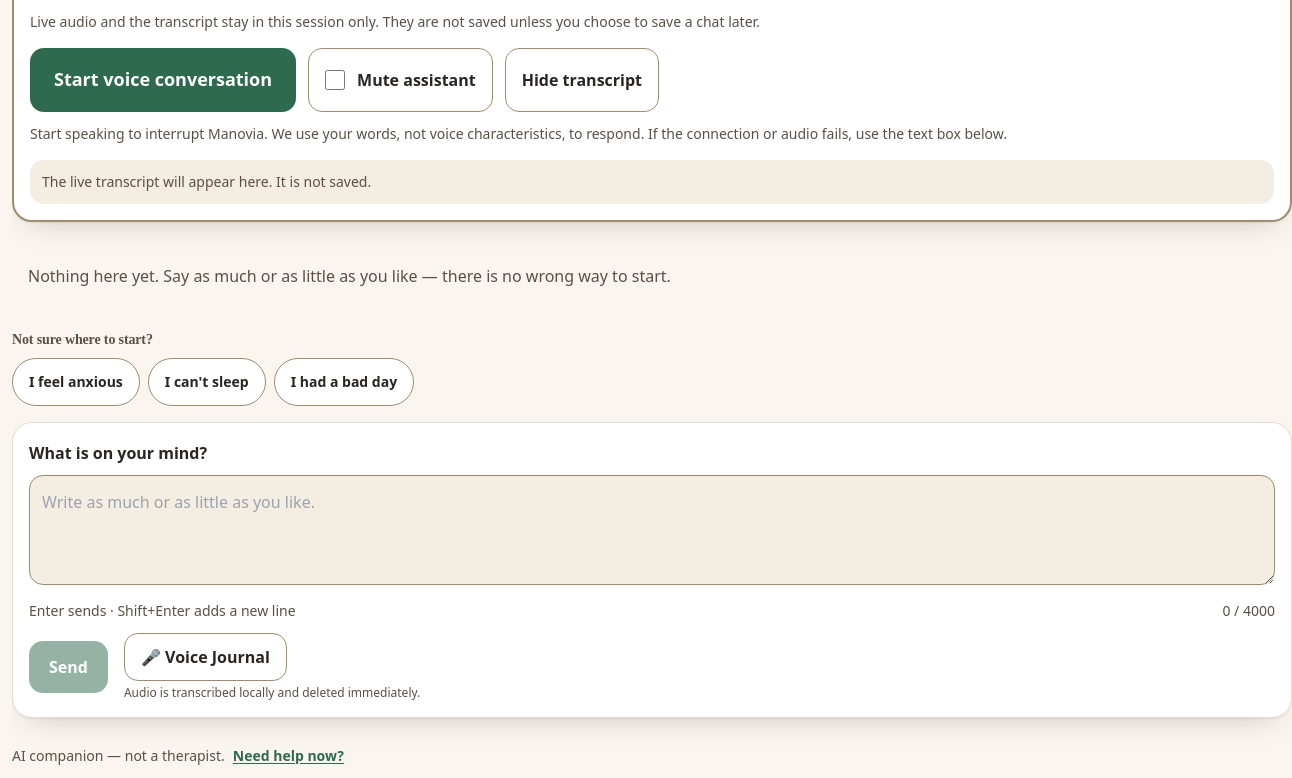
Test: ChatView — streaming › replaces the streamed text when the backend says it was replaced
(page scrolled)
Type "hi" into the text box labelled "What is on your mind?" at [652, 530], box [29, 474, 1275, 584]
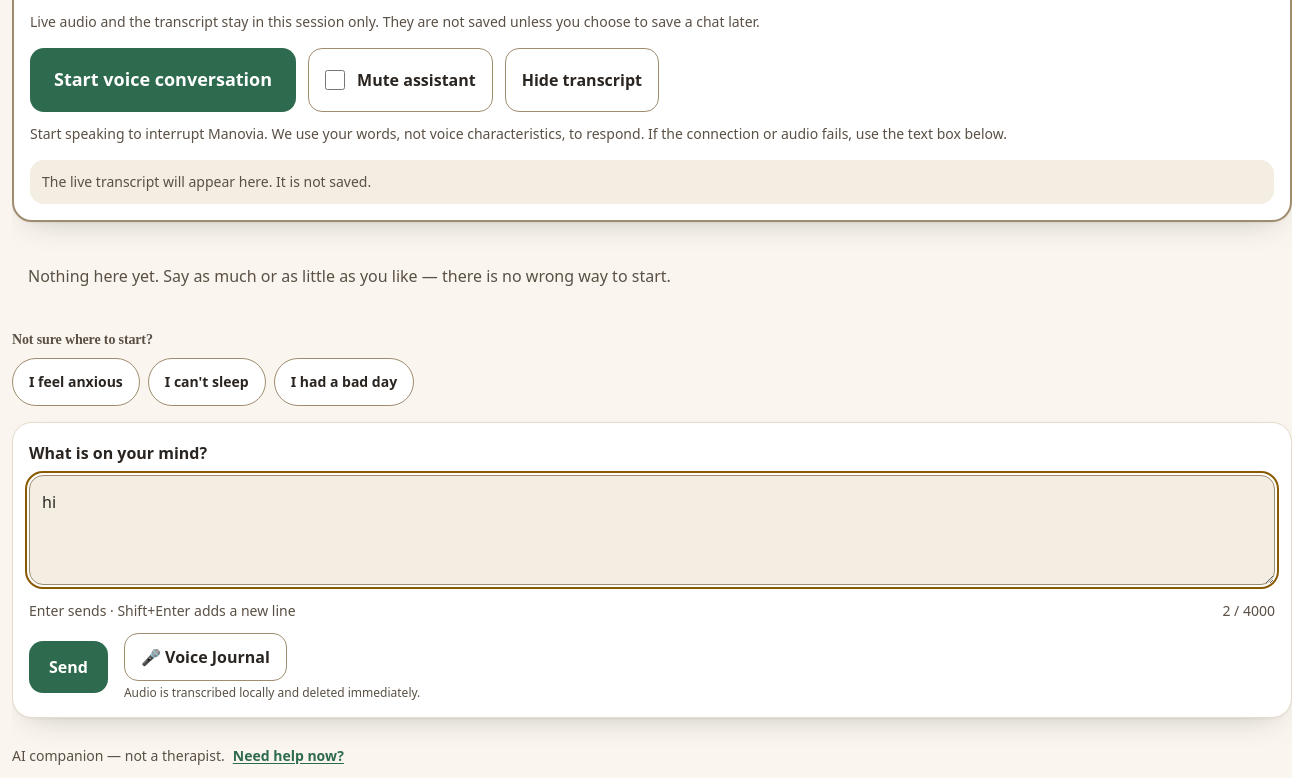
Click the button with test id "send-button" at [68, 666], box [29, 640, 108, 692]
(page scrolled)
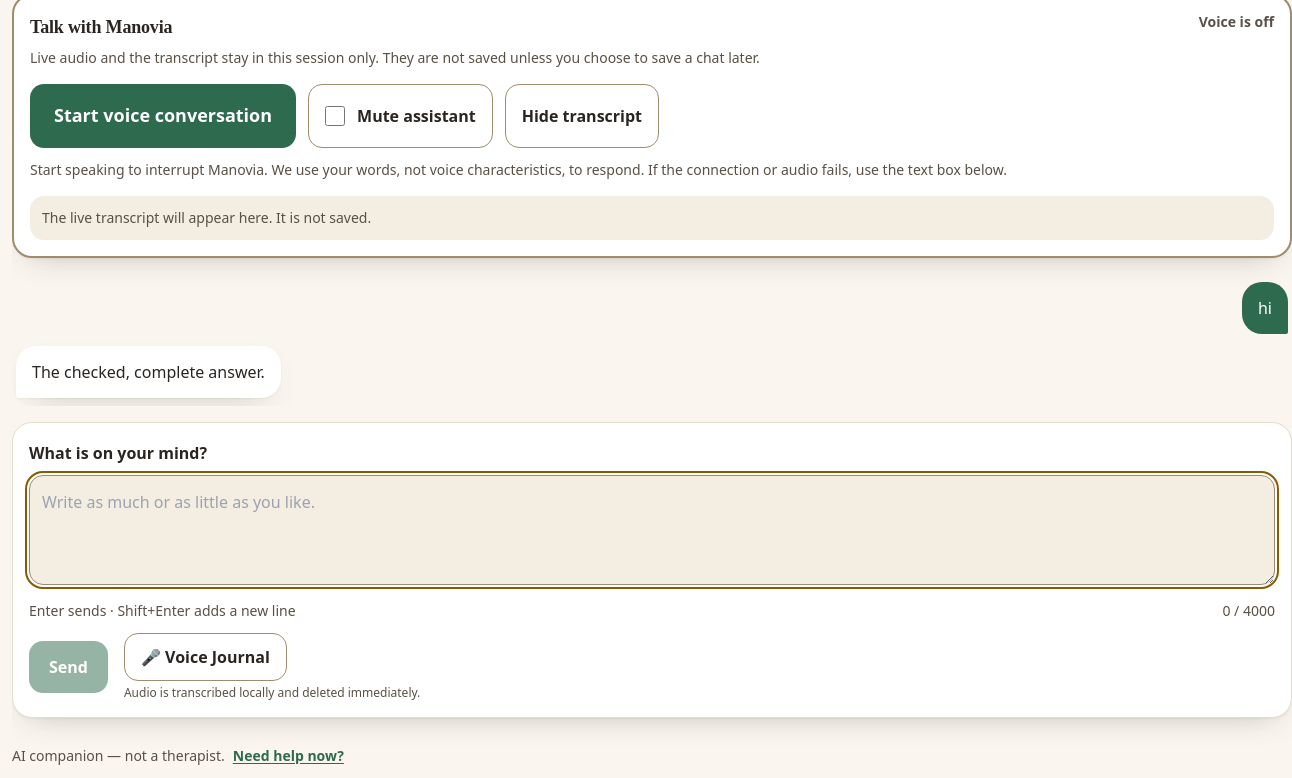
Now the text "The checked, complete answer." is shown, box [32, 358, 265, 386]
